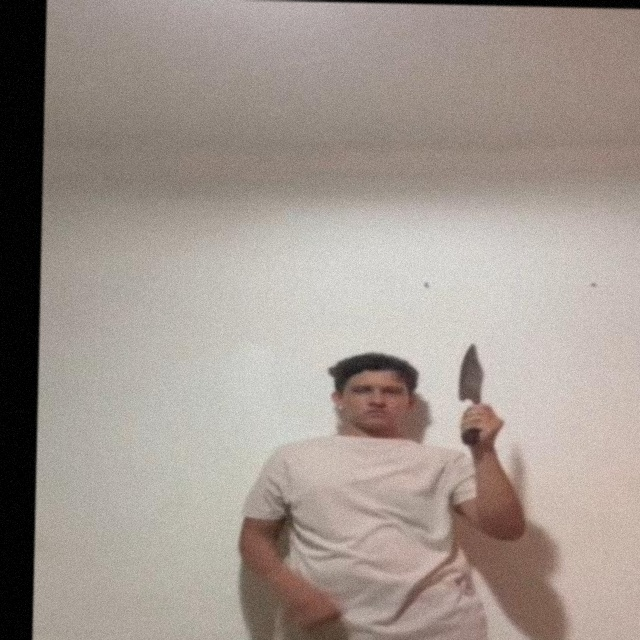Sharp-Object: (453, 343, 486, 402)
